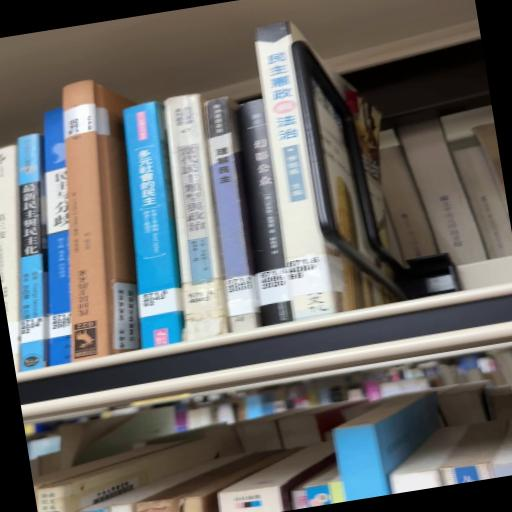book: (255, 22, 346, 320), (165, 94, 229, 341), (123, 102, 185, 349), (205, 98, 262, 332), (238, 99, 293, 326), (44, 108, 72, 366), (19, 135, 49, 371)
reverse: (63, 80, 140, 362)
